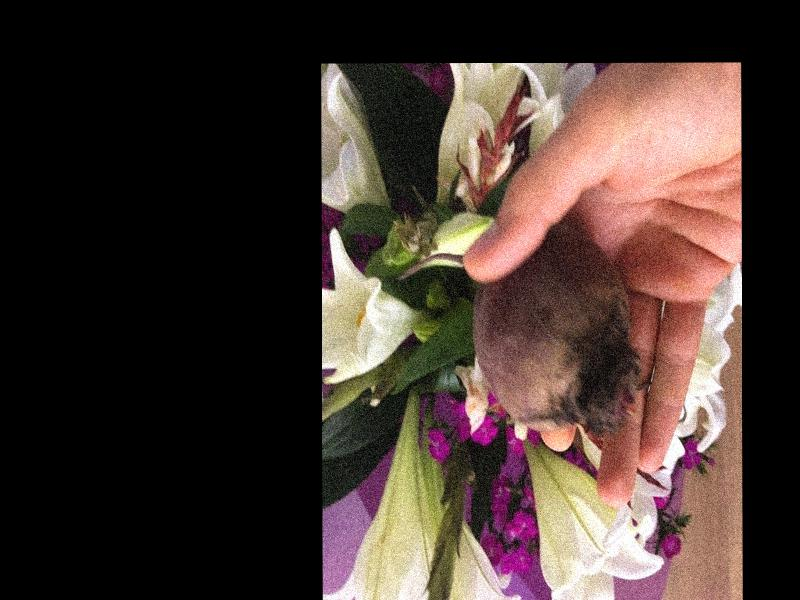Beet: (396, 227, 634, 435)
